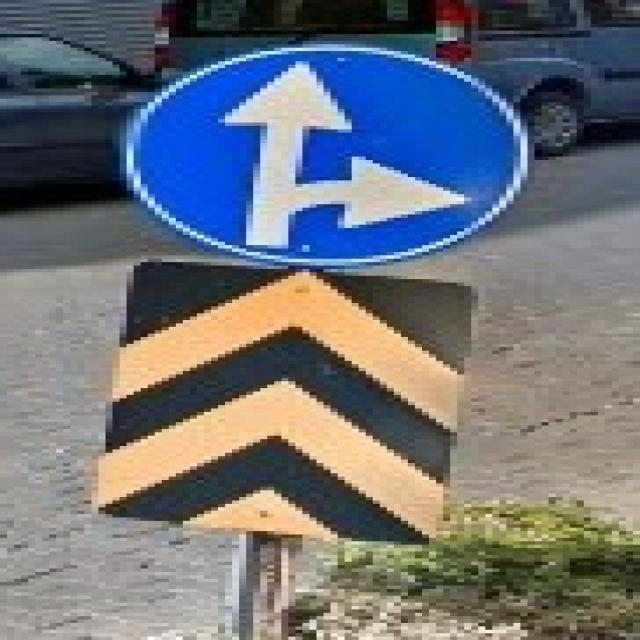Straight or Right: (131, 49, 525, 263)
